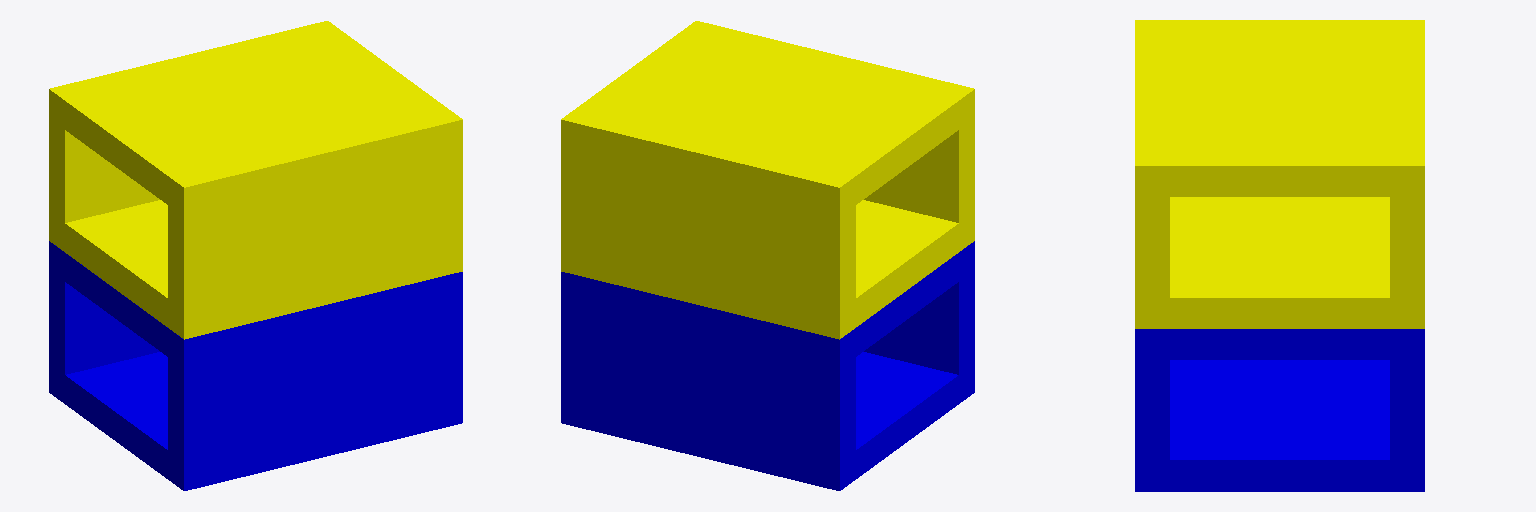
robot.urdf — sia20d_navigation_environment:
<?xml version="1.0" ?>
<!-- =================================================================================== -->
<!-- |    This document was autogenerated by xacro from sia20d_navigation_environment.xacro | -->
<!-- |    EDITING THIS FILE BY HAND IS NOT RECOMMENDED                                 | -->
<!-- =================================================================================== -->
<robot name="sia20d_navigation_environment" xmlns:xacro="http://ros.org/wiki/xacro">
  <description>
		Creates a window of specified dimensions using boxes
	</description>
  <description>
		Contains a series of material blocks with predefined colors that can be used
		in any visual element of a urdf model.
	</description>
  <description>
		Contains a series of material blocks with predefined colors that can be used
		in any visual element of a urdf model.
	</description>
  <!-- parameters -->
  <!-- instantiating windows -->
  <link name="window1_parent_frame"/>
  <link name="window1_top_link">
    <visual>
      <origin rpy="0 0 0" xyz="0 0.37 0"/>
      <geometry>
        <box size="0.52 0.1 1.0"/>
      </geometry>
      <material name="_blue_material">
        <color rgba="0 0 1 1"/>
      </material>
      <!--xacro:material_blue_block prefix="${name}"/-->
    </visual>
    <collision>
      <origin rpy="0 0 0" xyz="0 0.37 0"/>
      <geometry>
        <box size="0.52 0.1 1.0"/>
      </geometry>
      <material name="_red_material">
        <color rgba="1 0 0 1"/>
      </material>
      <!--xacro:material_red_block prefix="${name}"/-->
    </collision>
  </link>
  <joint name="window1_parent_frame_to_window1_top_link" type="fixed">
    <origin rpy="0 0 0" xyz="0 0 0"/>
    <parent link="window1_parent_frame"/>
    <child link="window1_top_link"/>
  </joint>
  <link name="window1_bottom_link">
    <visual>
      <origin rpy="0 0 0" xyz="0 -0.37 0"/>
      <geometry>
        <box size="0.52 0.1 1.0"/>
      </geometry>
      <material name="_blue_material">
        <color rgba="0 0 1 1"/>
      </material>
      <!--xacro:material_blue_block prefix="${name}"/-->
    </visual>
    <collision>
      <origin rpy="0 0 0" xyz="0 -0.37 0"/>
      <geometry>
        <box size="0.52 0.1 1.0"/>
      </geometry>
      <material name="_red_material">
        <color rgba="1 0 0 1"/>
      </material>
      <!--xacro:material_red_block prefix="${name}"/-->
    </collision>
  </link>
  <joint name="window1_parent_frame_to_window1_bottom_link" type="fixed">
    <origin rpy="0 0 0" xyz="0 0 0"/>
    <parent link="window1_parent_frame"/>
    <child link="window1_bottom_link"/>
  </joint>
  <link name="window1_left_link">
    <visual>
      <origin rpy="0 0 0" xyz="-0.21 0 0"/>
      <geometry>
        <box size="0.1 0.64 1.0"/>
      </geometry>
      <material name="_blue_material">
        <color rgba="0 0 1 1"/>
      </material>
      <!--xacro:material_blue_block prefix="${name}"/-->
    </visual>
    <collision>
      <origin rpy="0 0 0" xyz="-0.21 0 0"/>
      <geometry>
        <box size="0.1 0.64 1.0"/>
      </geometry>
      <material name="_red_material">
        <color rgba="1 0 0 1"/>
      </material>
      <!--xacro:material_red_block prefix="${name}"/-->
    </collision>
  </link>
  <joint name="window1_parent_frame_to_window1_left_link" type="fixed">
    <origin rpy="0 0 0" xyz="0 0 0"/>
    <parent link="window1_parent_frame"/>
    <child link="window1_left_link"/>
  </joint>
  <link name="window1_right_link">
    <visual>
      <origin rpy="0 0 0" xyz="0.21 0 0"/>
      <geometry>
        <box size="0.1 0.64 1.0"/>
      </geometry>
      <material name="_blue_material">
        <color rgba="0 0 1 1"/>
      </material>
      <!--xacro:material_blue_block prefix="${name}"/-->
    </visual>
    <collision>
      <origin rpy="0 0 0" xyz="0.21 0 0"/>
      <geometry>
        <box size="0.1 0.64 1.0"/>
      </geometry>
      <material name="_red_material">
        <color rgba="1 0 0 1"/>
      </material>
      <!--xacro:material_red_block prefix="${name}"/-->
    </collision>
  </link>
  <joint name="window1_parent_frame_to_window1_right_link" type="fixed">
    <origin rpy="0 0 0" xyz="0 0 0"/>
    <parent link="window1_parent_frame"/>
    <child link="window1_right_link"/>
  </joint>
  <!-- instantiating robots -->
  <link name="base_link">
    <visual>
      <geometry>
        <mesh filename="package://motoman_config/meshes/sia20d/visual/MOTOMAN_BASE.stl"/>
      </geometry>
      <material name="blue">
        <color rgba="0 0 1 1"/>
      </material>
    </visual>
    <collision>
      <geometry>
        <mesh filename="package://motoman_config/meshes/sia20d/collision/MOTOMAN_BASE.stl"/>
      </geometry>
      <material name="yellow">
        <color rgba="0 1 1 1"/>
      </material>
    </collision>
  </link>
  <link name="link_s">
    <visual>
      <origin rpy="0 0 3.1416" xyz="0 0 0"/>
      <geometry>
        <mesh filename="package://motoman_config/meshes/sia20d/visual/MOTOMAN_AXIS_S.stl"/>
      </geometry>
      <material name="silver">
        <color rgba="0.8 0.8 0.8 1"/>
      </material>
    </visual>
    <collision>
      <origin rpy="0 0 3.1416" xyz="0 0 0"/>
      <geometry>
        <mesh filename="package://motoman_config/meshes/sia20d/collision/MOTOMAN_AXIS_S.stl"/>
      </geometry>
      <material name="yellow"/>
    </collision>
  </link>
  <link name="link_l">
    <visual>
      <origin rpy="1.57 3.1416 3.1416" xyz="0 0 0"/>
      <geometry>
        <mesh filename="package://motoman_config/meshes/sia20d/visual/MOTOMAN_AXIS_L.stl"/>
      </geometry>
      <material name="blue"/>
    </visual>
    <collision>
      <origin rpy="1.57 3.1416 3.1416" xyz="0 0 0"/>
      <geometry>
        <mesh filename="package://motoman_config/meshes/sia20d/collision/MOTOMAN_AXIS_L.stl"/>
      </geometry>
      <material name="yellow"/>
    </collision>
  </link>
  <link name="link_e">
    <visual>
      <origin rpy="0 0 0" xyz="0 0 0"/>
      <geometry>
        <mesh filename="package://motoman_config/meshes/sia20d/visual/MOTOMAN_AXIS_E.stl"/>
      </geometry>
      <material name="silver"/>
    </visual>
    <collision>
      <origin rpy="0 0 0" xyz="0 0 0"/>
      <geometry>
        <mesh filename="package://motoman_config/meshes/sia20d/collision/MOTOMAN_AXIS_E.stl"/>
      </geometry>
      <material name="yellow"/>
    </collision>
  </link>
  <link name="link_u">
    <visual>
      <origin rpy="1.57 -3.1415 3.1416" xyz="0 0 0"/>
      <geometry>
        <mesh filename="package://motoman_config/meshes/sia20d/visual/MOTOMAN_AXIS_U.stl"/>
      </geometry>
      <material name="blue"/>
    </visual>
    <collision>
      <origin rpy="1.57 -3.1415 3.1416" xyz="0 0 0"/>
      <geometry>
        <mesh filename="package://motoman_config/meshes/sia20d/collision/MOTOMAN_AXIS_U.stl"/>
      </geometry>
      <material name="yellow"/>
    </collision>
  </link>
  <link name="link_r">
    <visual>
      <origin rpy="0 0 0" xyz="0 0 0"/>
      <geometry>
        <mesh filename="package://motoman_config/meshes/sia20d/visual/MOTOMAN_AXIS_R.stl"/>
      </geometry>
      <material name="silver"/>
    </visual>
    <collision>
      <origin rpy="0 0 0" xyz="0 0 0"/>
      <geometry>
        <mesh filename="package://motoman_config/meshes/sia20d/collision/MOTOMAN_AXIS_R.stl"/>
      </geometry>
      <material name="yellow"/>
    </collision>
  </link>
  <link name="link_b">
    <visual>
      <origin rpy="-1.57 0 0" xyz="0 0 0"/>
      <geometry>
        <mesh filename="package://motoman_config/meshes/sia20d/visual/MOTOMAN_AXIS_B.stl"/>
      </geometry>
      <material name="blue"/>
    </visual>
    <collision>
      <origin rpy="-1.57 0 0" xyz="0 0 0"/>
      <geometry>
        <mesh filename="package://motoman_config/meshes/sia20d/collision/MOTOMAN_AXIS_B.stl"/>
      </geometry>
      <material name="yellow"/>
    </collision>
  </link>
  <link name="link_t">
    <visual>
      <geometry>
        <mesh filename="package://motoman_config/meshes/sia20d/visual/MOTOMAN_AXIS_T.stl"/>
      </geometry>
      <material name="silver"/>
    </visual>
    <collision>
      <geometry>
        <mesh filename="package://motoman_config/meshes/sia20d/collision/MOTOMAN_AXIS_T.stl"/>
      </geometry>
      <material name="yellow"/>
    </collision>
  </link>
  <link name="tool0"/>
  <joint name="joint_s" type="revolute">
    <parent link="base_link"/>
    <child link="link_s"/>
    <origin rpy="0 0 0" xyz="0 0 0.41"/>
    <axis xyz="0 0 1"/>
    <limit effort="100" lower="-3.1416" upper="3.1416" velocity="2.26"/>
  </joint>
  <joint name="joint_l" type="revolute">
    <parent link="link_s"/>
    <child link="link_l"/>
    <origin rpy="0 0 0" xyz="0 0 0"/>
    <axis xyz="0 1 0"/>
    <limit effort="100" lower="-1.91" upper="1.91" velocity="2.26"/>
  </joint>
  <joint name="joint_e" type="revolute">
    <parent link="link_l"/>
    <child link="link_e"/>
    <origin rpy="0 0 0" xyz="0 0 0.49"/>
    <axis xyz="0 0 1"/>
    <limit effort="100" lower="-2.96" upper="2.96" velocity="2.96"/>
  </joint>
  <joint name="joint_u" type="revolute">
    <parent link="link_e"/>
    <child link="link_u"/>
    <origin rpy="0 0 0" xyz="0 0 0"/>
    <axis xyz="0 -1 0"/>
    <limit effort="100" lower="-2.26" upper="2.26" velocity="2.96"/>
  </joint>
  <joint name="joint_r" type="revolute">
    <parent link="link_u"/>
    <child link="link_r"/>
    <origin rpy="0 0 0" xyz="0 0 0.420"/>
    <axis xyz="0 0 -1"/>
    <limit effort="100" lower="-3.1416" upper="3.1416" velocity="3.48"/>
  </joint>
  <joint name="joint_b" type="revolute">
    <parent link="link_r"/>
    <child link="link_b"/>
    <origin rpy="0 0 0" xyz="0 0 0"/>
    <axis xyz="0 -1 0"/>
    <limit effort="100" lower="-1.91" upper="1.91" velocity="3.48"/>
  </joint>
  <joint name="joint_t" type="revolute">
    <parent link="link_b"/>
    <child link="link_t"/>
    <origin rpy="0 0 0" xyz="0 0 0.18"/>
    <axis xyz="0 0 -1"/>
    <limit effort="100" lower="-3.1416" upper="3.1416" velocity="6.97"/>
  </joint>
  <joint name="link_t-tool0" type="fixed">
    <origin rpy="0 -1.571 0" xyz="0 0 0.0"/>
    <parent link="link_t"/>
    <child link="tool0"/>
  </joint>
  <link name="palm">
    <visual>
      <geometry>
        <mesh filename="package://robotiq_s_model_visualization/meshes/s-model/visual/GRIPPER_OPEN_PALM.stl"/>
      </geometry>
      <material name="green">
        <color rgba="0 1 0 1"/>
      </material>
    </visual>
    <collision>
      <geometry>
        <mesh filename="package://robotiq_s_model_visualization/meshes/s-model/collision/GRIPPER_OPEN_PALM.stl"/>
      </geometry>
      <material name="yellow">
        <color rgba="0 1 1 1"/>
      </material>
    </collision>
  </link>
  <link name="finger_1">
    <visual>
      <geometry>
        <mesh filename="package://robotiq_s_model_visualization/meshes/s-model/visual/GRIPPER_OPEN_FINGER_1.stl"/>
      </geometry>
      <material name="green"/>
    </visual>
    <collision>
      <geometry>
        <mesh filename="package://robotiq_s_model_visualization/meshes/s-model/collision/GRIPPER_OPEN_FINGER_1.stl"/>
      </geometry>
      <material name="yellow"/>
    </collision>
  </link>
  <link name="finger_2">
    <visual>
      <geometry>
        <mesh filename="package://robotiq_s_model_visualization/meshes/s-model/visual/GRIPPER_OPEN_FINGER_2.stl"/>
      </geometry>
      <material name="green"/>
    </visual>
    <collision>
      <geometry>
        <mesh filename="package://robotiq_s_model_visualization/meshes/s-model/collision/GRIPPER_OPEN_FINGER_2.stl"/>
      </geometry>
      <material name="yellow"/>
    </collision>
  </link>
  <link name="finger_3">
    <visual>
      <geometry>
        <mesh filename="package://robotiq_s_model_visualization/meshes/s-model/visual/GRIPPER_OPEN_FINGER_3.stl"/>
      </geometry>
      <material name="green"/>
    </visual>
    <collision>
      <geometry>
        <mesh filename="package://robotiq_s_model_visualization/meshes/s-model/collision/GRIPPER_OPEN_FINGER_3.stl"/>
      </geometry>
      <material name="yellow"/>
    </collision>
  </link>
  <joint name="joint_1" type="fixed">
    <parent link="palm"/>
    <child link="finger_1"/>
    <origin rpy="0 0 0" xyz="0 0 0"/>
  </joint>
  <joint name="joint_2" type="fixed">
    <parent link="palm"/>
    <child link="finger_2"/>
    <origin rpy="0 0 0" xyz="0 0 0"/>
  </joint>
  <joint name="joint_3" type="fixed">
    <parent link="palm"/>
    <child link="finger_3"/>
    <origin rpy="0 0 0" xyz="0 0 0"/>
  </joint>
  <link name="window2_parent_frame"/>
  <link name="window2_top_link">
    <visual>
      <origin rpy="0 0 0" xyz="0 0.37 0"/>
      <geometry>
        <box size="0.52 0.1 1.0"/>
      </geometry>
      <material name="_yellow_material">
        <color rgba="1 1 0 1"/>
      </material>
      <!--xacro:material_blue_block prefix="${name}"/-->
    </visual>
    <collision>
      <origin rpy="0 0 0" xyz="0 0.37 0"/>
      <geometry>
        <box size="0.52 0.1 1.0"/>
      </geometry>
      <material name="_red_material">
        <color rgba="1 0 0 1"/>
      </material>
      <!--xacro:material_red_block prefix="${name}"/-->
    </collision>
  </link>
  <joint name="window2_parent_frame_to_window2_top_link" type="fixed">
    <origin rpy="0 0 0" xyz="0 0 0"/>
    <parent link="window2_parent_frame"/>
    <child link="window2_top_link"/>
  </joint>
  <link name="window2_bottom_link">
    <visual>
      <origin rpy="0 0 0" xyz="0 -0.37 0"/>
      <geometry>
        <box size="0.52 0.1 1.0"/>
      </geometry>
      <material name="_yellow_material">
        <color rgba="1 1 0 1"/>
      </material>
      <!--xacro:material_blue_block prefix="${name}"/-->
    </visual>
    <collision>
      <origin rpy="0 0 0" xyz="0 -0.37 0"/>
      <geometry>
        <box size="0.52 0.1 1.0"/>
      </geometry>
      <material name="_red_material">
        <color rgba="1 0 0 1"/>
      </material>
      <!--xacro:material_red_block prefix="${name}"/-->
    </collision>
  </link>
  <joint name="window2_parent_frame_to_window2_bottom_link" type="fixed">
    <origin rpy="0 0 0" xyz="0 0 0"/>
    <parent link="window2_parent_frame"/>
    <child link="window2_bottom_link"/>
  </joint>
  <link name="window2_left_link">
    <visual>
      <origin rpy="0 0 0" xyz="-0.21 0 0"/>
      <geometry>
        <box size="0.1 0.64 1.0"/>
      </geometry>
      <material name="_yellow_material">
        <color rgba="1 1 0 1"/>
      </material>
      <!--xacro:material_blue_block prefix="${name}"/-->
    </visual>
    <collision>
      <origin rpy="0 0 0" xyz="-0.21 0 0"/>
      <geometry>
        <box size="0.1 0.64 1.0"/>
      </geometry>
      <material name="_red_material">
        <color rgba="1 0 0 1"/>
      </material>
      <!--xacro:material_red_block prefix="${name}"/-->
    </collision>
  </link>
  <joint name="window2_parent_frame_to_window2_left_link" type="fixed">
    <origin rpy="0 0 0" xyz="0 0 0"/>
    <parent link="window2_parent_frame"/>
    <child link="window2_left_link"/>
  </joint>
  <link name="window2_right_link">
    <visual>
      <origin rpy="0 0 0" xyz="0.21 0 0"/>
      <geometry>
        <box size="0.1 0.64 1.0"/>
      </geometry>
      <material name="_yellow_material">
        <color rgba="1 1 0 1"/>
      </material>
      <!--xacro:material_blue_block prefix="${name}"/-->
    </visual>
    <collision>
      <origin rpy="0 0 0" xyz="0.21 0 0"/>
      <geometry>
        <box size="0.1 0.64 1.0"/>
      </geometry>
      <material name="_red_material">
        <color rgba="1 0 0 1"/>
      </material>
      <!--xacro:material_red_block prefix="${name}"/-->
    </collision>
  </link>
  <joint name="window2_parent_frame_to_window2_right_link" type="fixed">
    <origin rpy="0 0 0" xyz="0 0 0"/>
    <parent link="window2_parent_frame"/>
    <child link="window2_right_link"/>
  </joint>
  <!-- link definitions -->
  <link name="world_frame"/>
  <!-- joint  definitions -->
  <joint name="world_to_window1" type="fixed">
    <origin rpy="0 1.57 0" xyz="1.0 0 0.26"/>
    <parent link="world_frame"/>
    <child link="window1_parent_frame"/>
  </joint>
  <joint name="world_to_window2" type="fixed">
    <origin rpy="0 1.57 0" xyz="1.0 0 0.78"/>
    <parent link="world_frame"/>
    <child link="window2_parent_frame"/>
  </joint>
  <joint name="world_to_robot_base" type="fixed">
    <origin rpy="0 0 0" xyz="0 0 0"/>
    <parent link="world_frame"/>
    <child link="base_link"/>
  </joint>
  <joint name="wrist_to_gripper" type="fixed">
    <origin rpy="0 0 0" xyz="0 0 0.16"/>
    <parent link="link_t"/>
    <child link="palm"/>
  </joint>
</robot>

--- What the picture shows (computed from the rendered views, not written in the file) ---
The picture shows the robot from 3 angles, left to right: view 1: azimuth 30°, elevation 25°; view 2: azimuth 150°, elevation 25°; view 3: azimuth 270°, elevation 25°; orthographic projection.
Robot: sia20d_navigation_environment — 24 links, 23 joints (7 revolute, 16 fixed); root link world_frame; default pose: every joint at zero.
Visible links, largest first — view 1: window2_bottom_link, window1_bottom_link, window2_left_link, window2_top_link, window2_right_link, window1_right_link, window1_top_link, window1_left_link; view 2: window2_top_link, window1_top_link, window2_left_link, window2_bottom_link, window2_right_link, window1_right_link, window1_bottom_link, window1_left_link; view 3: window2_left_link, window1_right_link, window2_right_link, window2_top_link, window2_bottom_link, window1_left_link, window1_top_link, window1_bottom_link.
Boxes of the visible links, x1,y1,x2,y2 form: window2_bottom_link: [168, 108, 462, 339]; window1_bottom_link: [168, 272, 462, 490]; window2_left_link: [65, 32, 446, 204]; window2_top_link: [49, 21, 342, 251]; window2_right_link: [65, 200, 167, 326]; window1_right_link: [65, 352, 167, 478]; window1_top_link: [49, 241, 159, 403]; window1_left_link: [65, 253, 167, 356]; window2_top_link: [561, 108, 855, 339]; window1_top_link: [561, 272, 855, 490]; window2_left_link: [577, 32, 958, 204]; window2_bottom_link: [681, 21, 974, 251]; window2_right_link: [856, 200, 958, 326]; window1_right_link: [856, 352, 958, 478]; window1_bottom_link: [864, 241, 974, 403]; window1_left_link: [856, 253, 958, 356]; window2_left_link: [1170, 20, 1389, 196]; window1_right_link: [1170, 360, 1389, 491]; window2_right_link: [1170, 197, 1389, 328]; window2_top_link: [1390, 20, 1424, 328]; window2_bottom_link: [1135, 20, 1169, 328]; window1_left_link: [1170, 329, 1389, 359]; window1_top_link: [1390, 329, 1424, 491]; window1_bottom_link: [1135, 329, 1169, 491].
Bounding box of the posed robot: 1 × 0.84 × 1.04 m (x, y, z).
Meshes: 12 distinct files referenced, 0 mesh visuals loaded (none loaded); not drawn: 12 (reference not matched to a file when rendering).